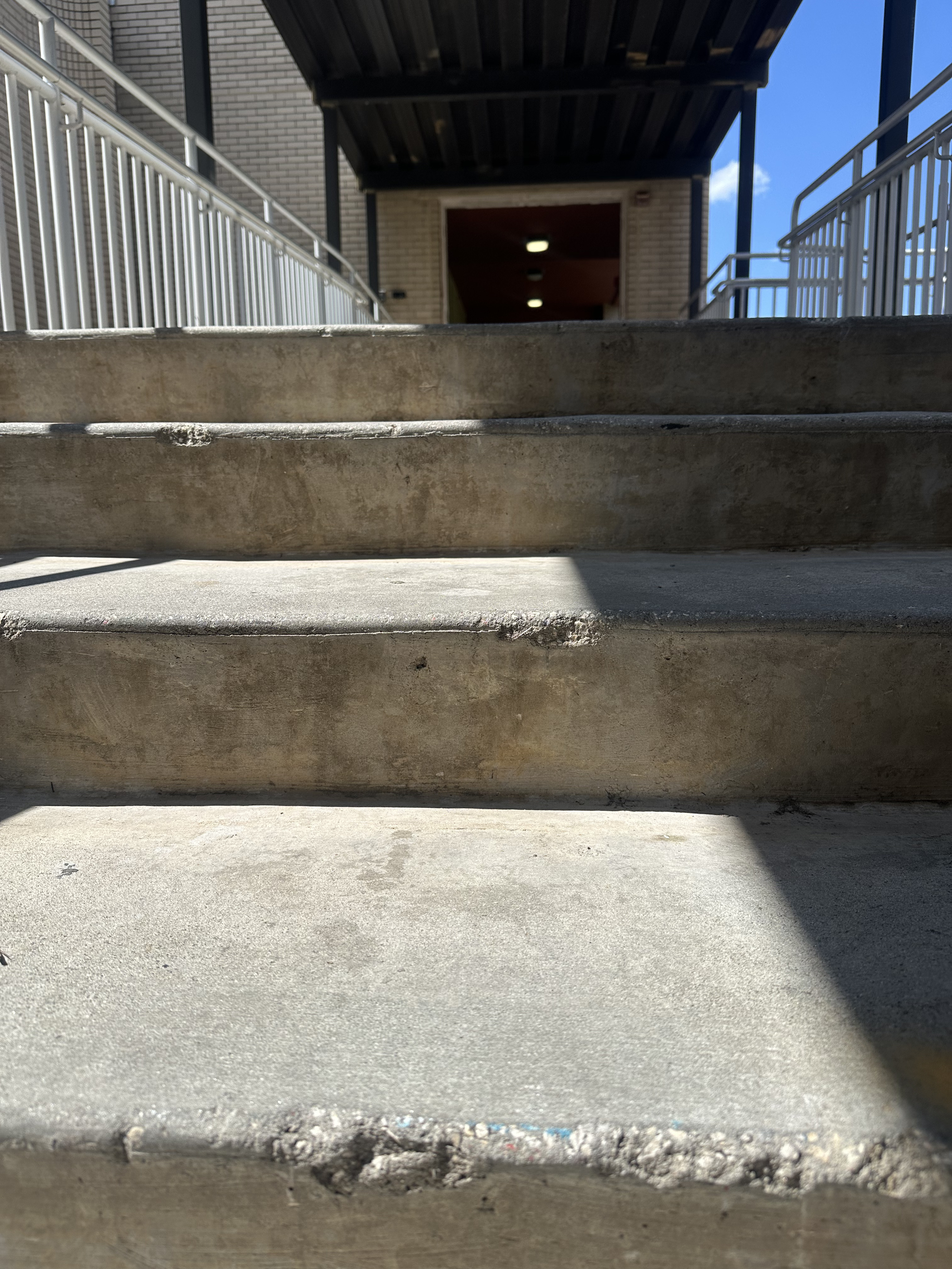stairs: (2, 315, 952, 1269)
